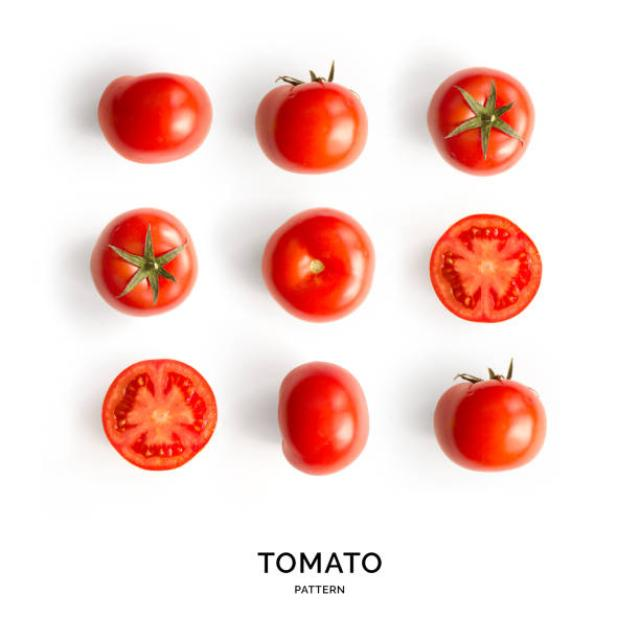Tomato: (426, 197, 567, 331), (94, 355, 223, 483)
